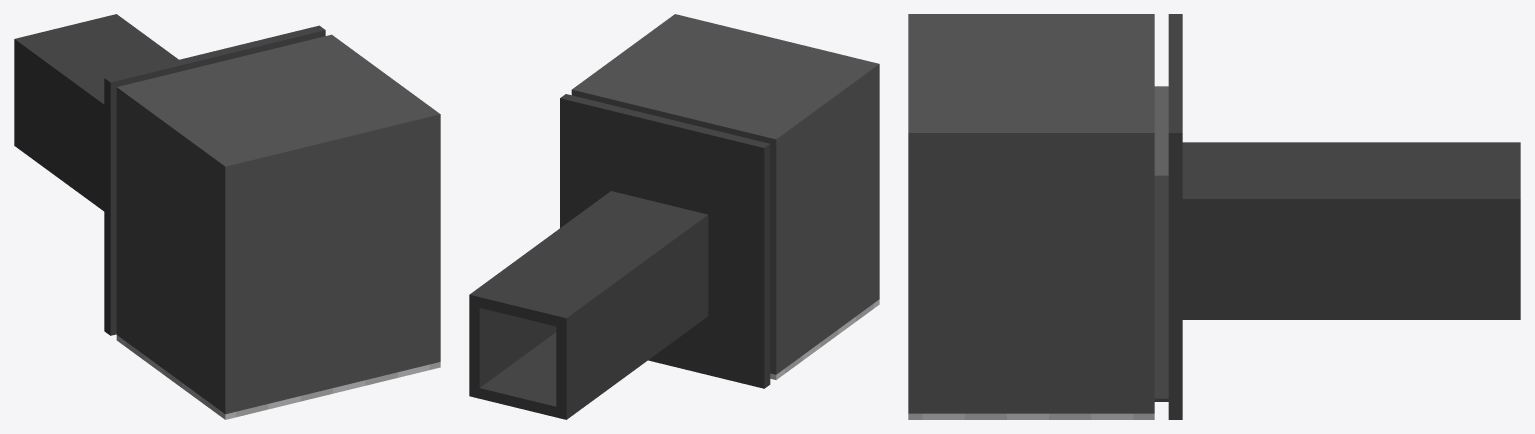
File: start_loc3.obj
3 renders of one model, left to right at view 1: azimuth 30°, elevation 25°; view 2: azimuth 150°, elevation 25°; view 3: azimuth 270°, elevation 25°, orthographic. The views are drawn at different scales.
Bounding box in the file's own units: 4 × 4.5 × 8.7.
Materials: 1 (1 with a texture image).
